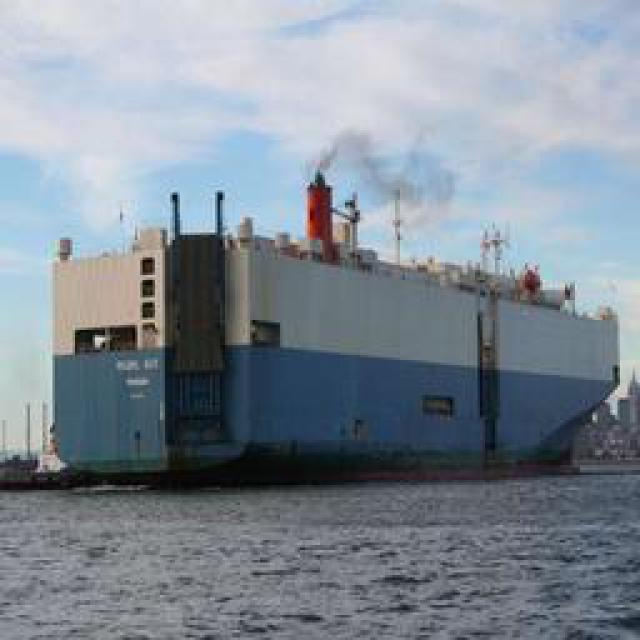Ship: (51, 153, 621, 481)
